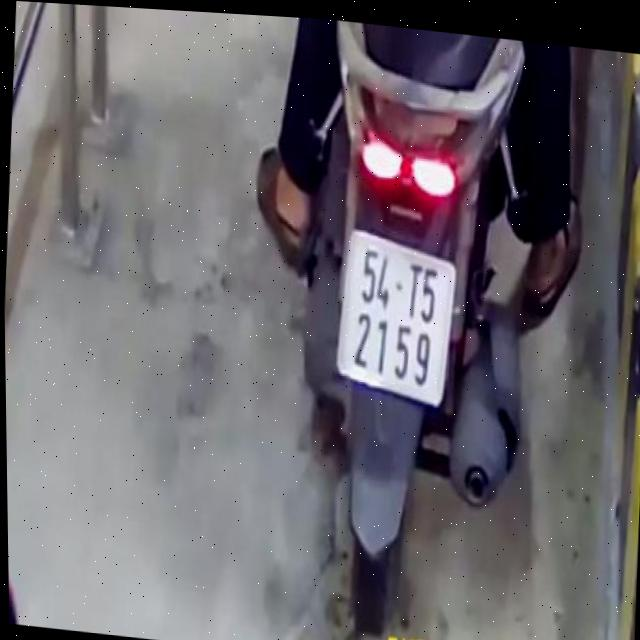motorcycle: (275, 16, 593, 640)
plate: (325, 222, 469, 416)
